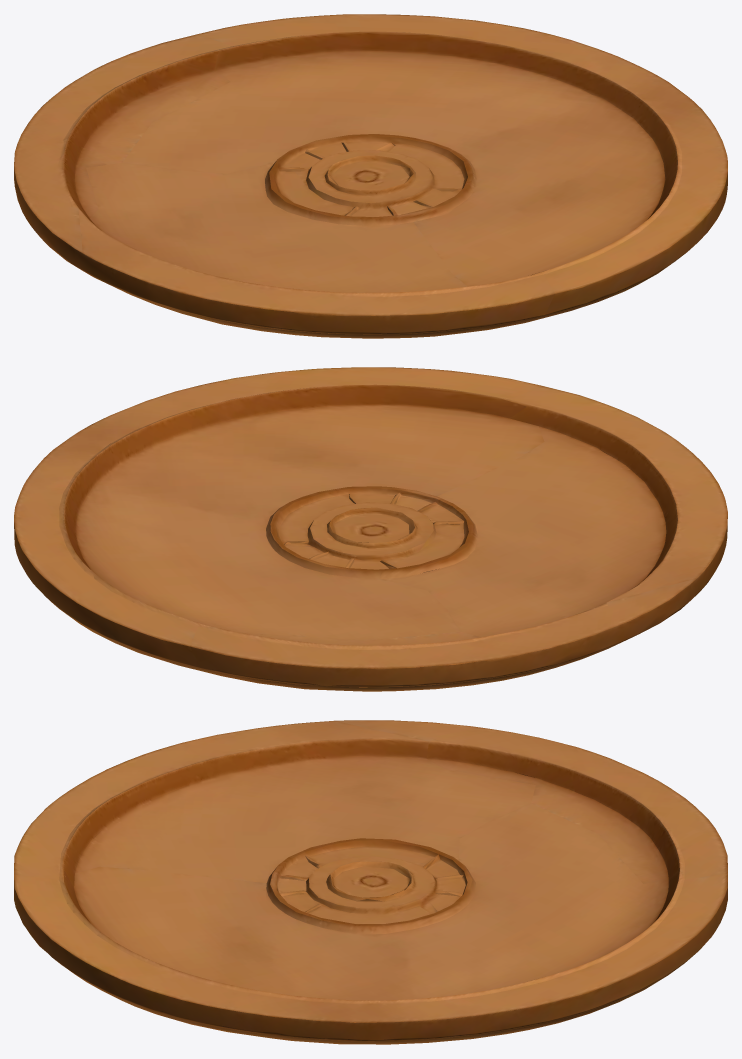
File: lazySusan.glb
3 views of the same model, one above another, from view 1: azimuth 30°, elevation 25°; view 2: azimuth 150°, elevation 25°; view 3: azimuth 270°, elevation 25° (orthographic).
Parts seen in each view (by area): view 1: model; view 2: model; view 3: model.
Boxes of the visible parts, left/top/right/bottom form: model: left=14, top=14, right=727, bottom=338; model: left=14, top=367, right=727, bottom=691; model: left=14, top=720, right=727, bottom=1044.
Bounding box in the file's own units: 1.9 × 0.1438 × 1.9.
1 material, 1 textured.
